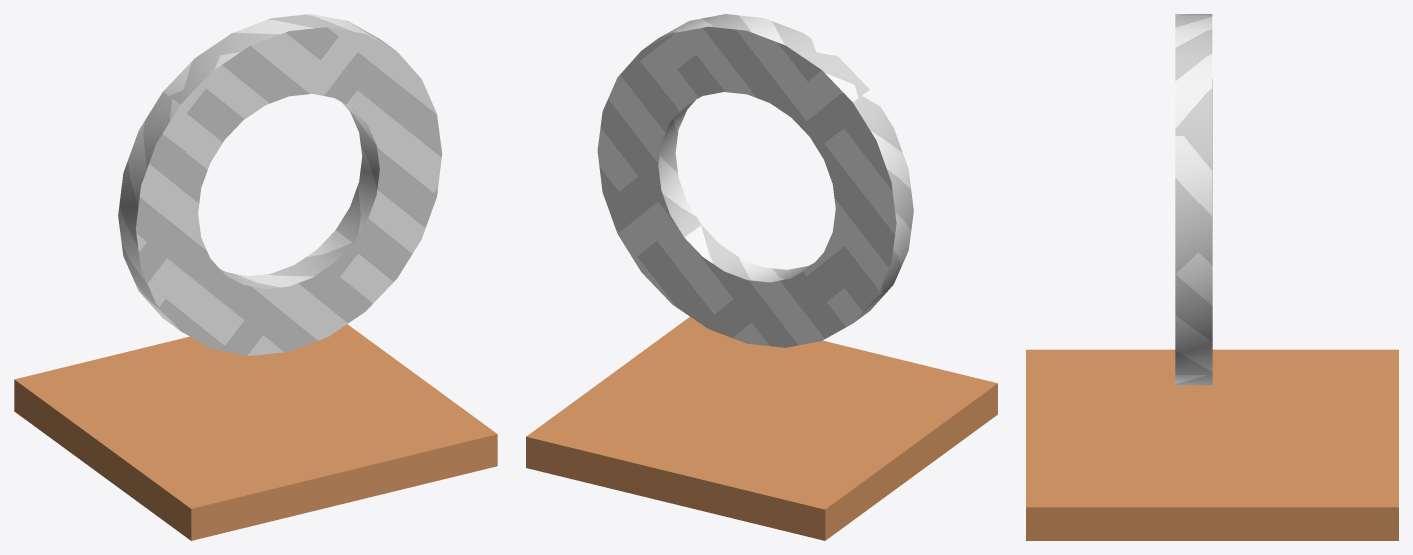
The model's file is portal1.obj.
3 renders of one model, left to right at view 1: azimuth 30°, elevation 25°; view 2: azimuth 150°, elevation 25°; view 3: azimuth 270°, elevation 25°, orthographic. The views are drawn at different scales.
Size of the model in its own units: 1.05 by 1.3 by 1.
2 materials, 1 textured.
